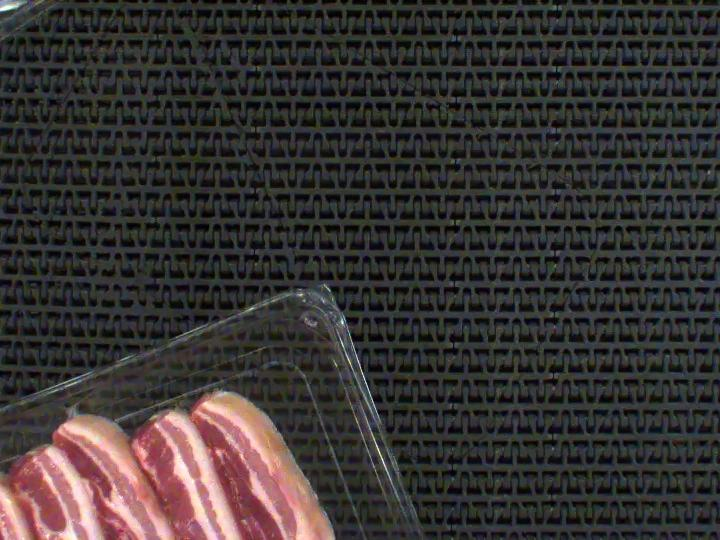packaging-error: (54, 402, 87, 422)
